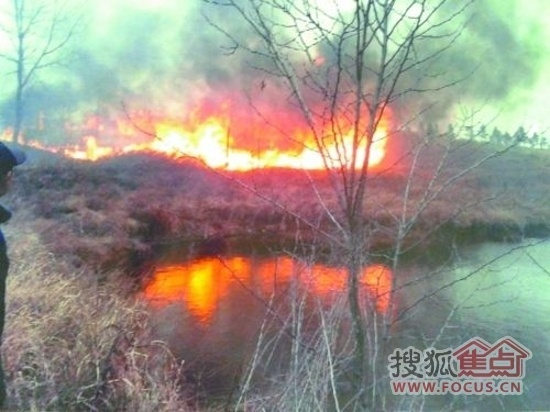fire: (40, 92, 398, 173), (145, 252, 248, 314)
